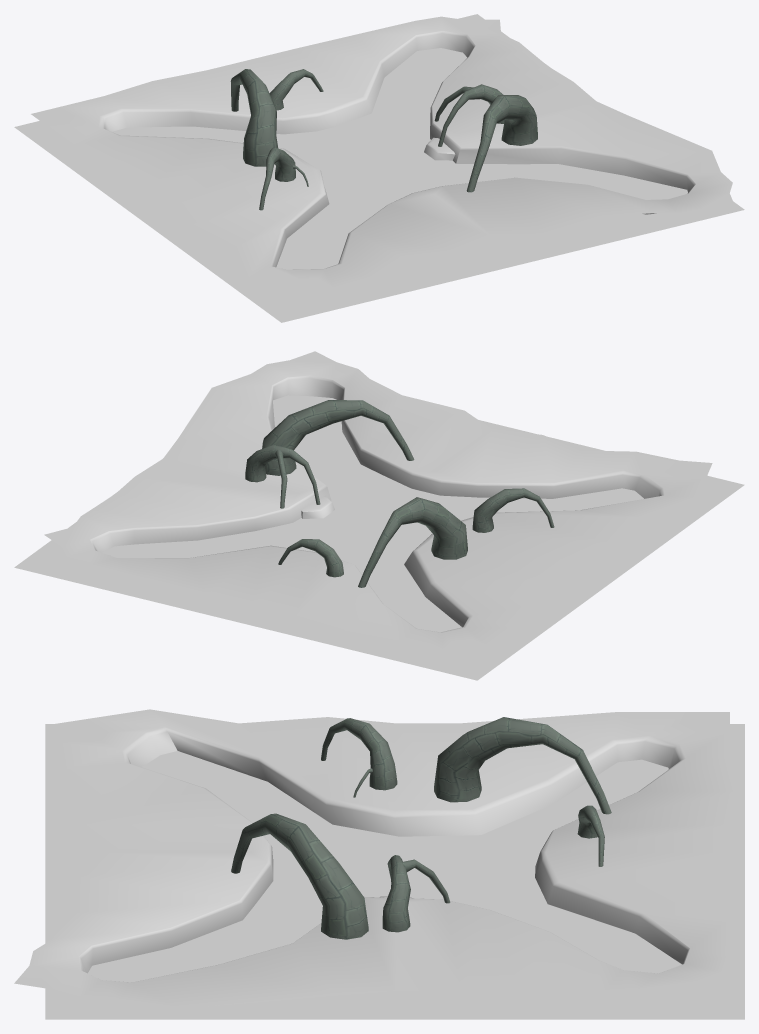
Rendered from MainArea.fbx.
3 views of the same model, one above another, from view 1: azimuth 30°, elevation 25°; view 2: azimuth 150°, elevation 25°; view 3: azimuth 270°, elevation 25° (orthographic). The views are drawn at different scales.
Visible parts, largest first — view 1: H; view 2: H; view 3: H.
Boxes of the visible parts, box(x1,y1,x2,y2) form: H: box(14, 14, 744, 322); H: box(14, 351, 744, 680); H: box(14, 709, 744, 1019).
Size of the model in its own units: 3289 by 557 by 3305.
